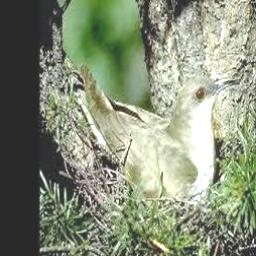Cuckoo: (82, 63, 241, 204)
